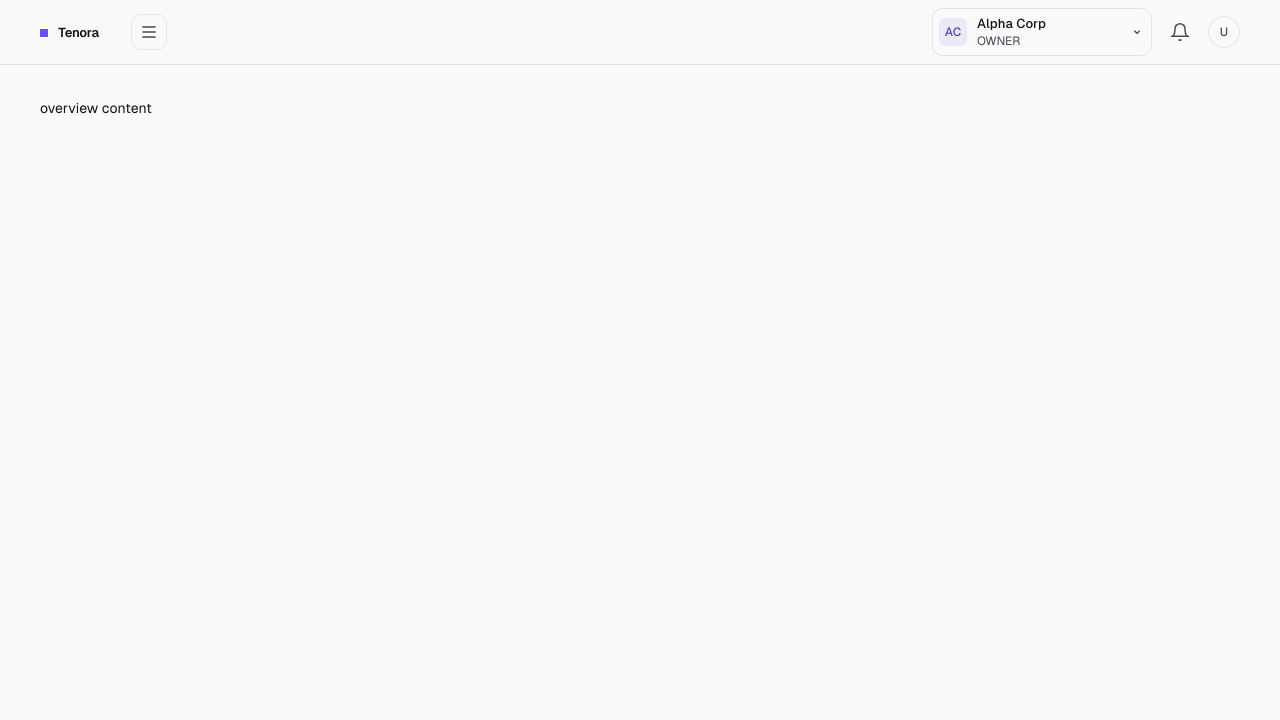
Test: AppShell — narrow (<1024px) › keeps the switcher and account menu in the bar and collapses the nav behind a hamburger
The image size is (1280, 720).
Check: the button "AC Alpha Corp OWNER" is shown, box [932, 8, 1152, 56]
Check: the button named "Account menu" is shown, box [1208, 16, 1240, 48]
Click the button named "Open navigation" at [149, 32], box [131, 14, 167, 50]
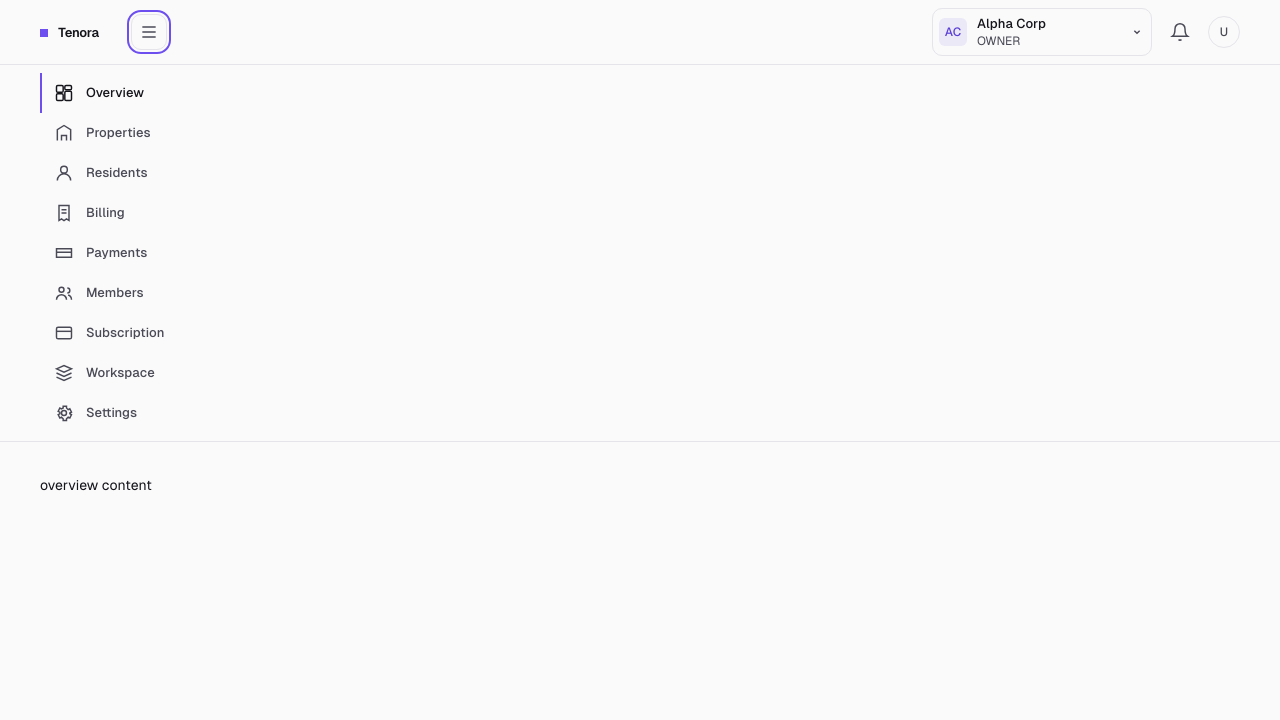
Check: the link "Overview" is shown, box [40, 73, 1240, 113]
Note: Following a link closes the panel.
Click the link "Members" at [99, 293], box [54, 283, 144, 303]
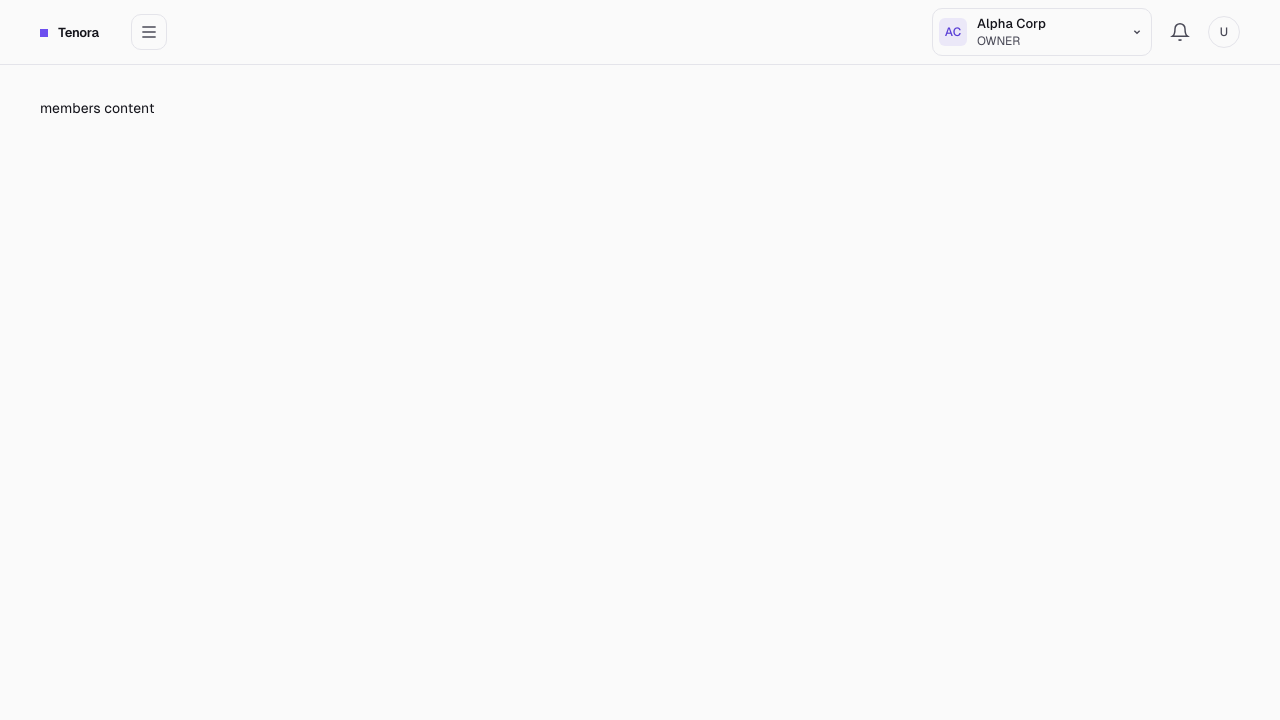
Check: the navigation bar "Primary" is gone
Check: the text "members content" is shown, box [40, 100, 154, 116]
